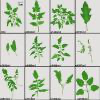Tomato leaf: (78, 1, 93, 24), (32, 0, 40, 13), (37, 11, 45, 19), (28, 12, 36, 20), (57, 35, 62, 45), (33, 35, 39, 43), (37, 21, 46, 26), (60, 44, 69, 48)
